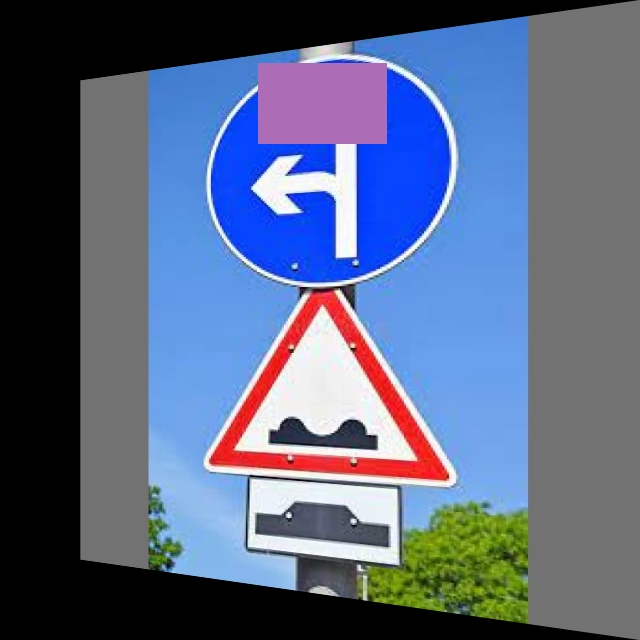Compulsory_Ahead_or_Turn_Left: (200, 41, 471, 290)
